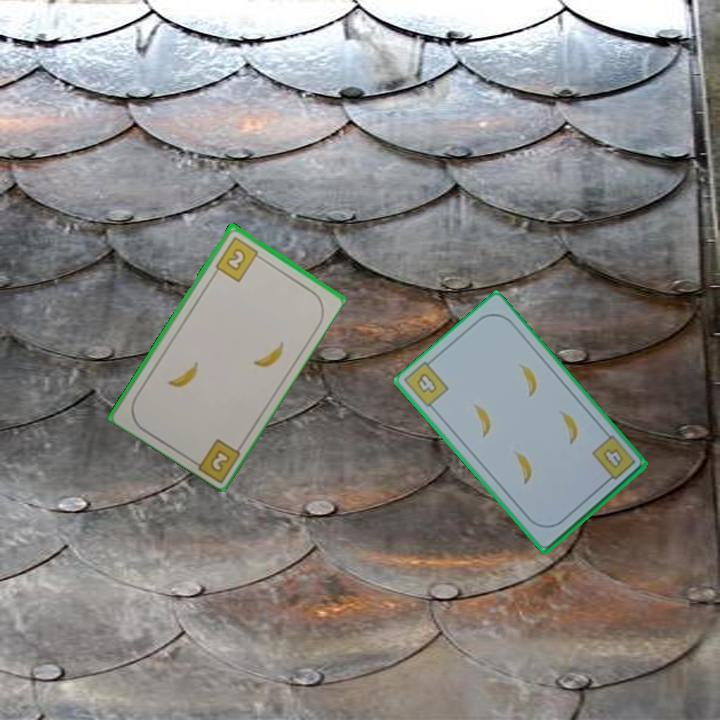2b: (212, 233, 265, 284), (206, 446, 233, 475)
4b: (588, 434, 638, 487), (412, 369, 440, 396)
